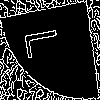L: (25, 25, 68, 60)
